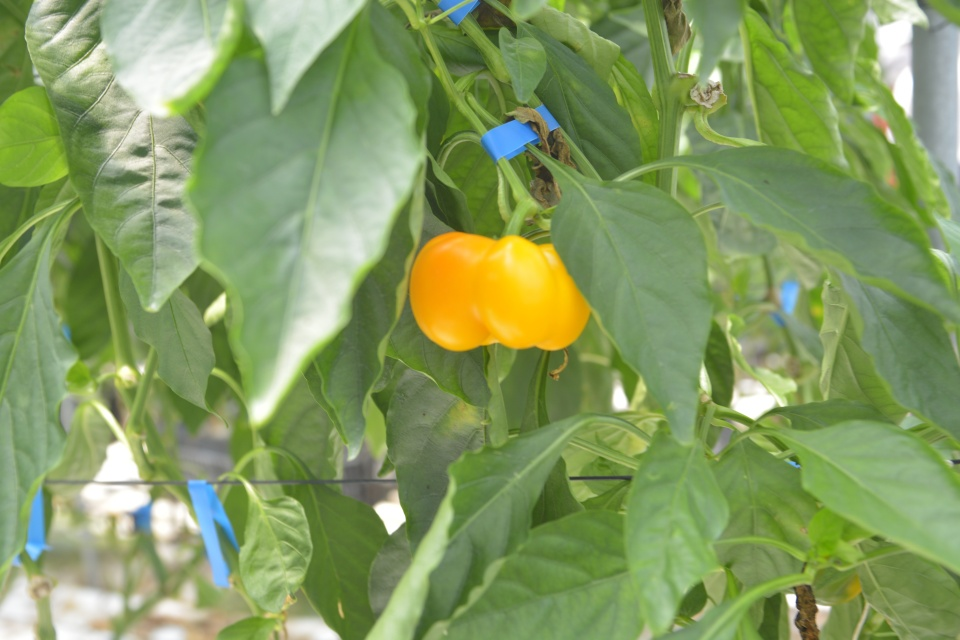fruit: (406, 228, 593, 354)
